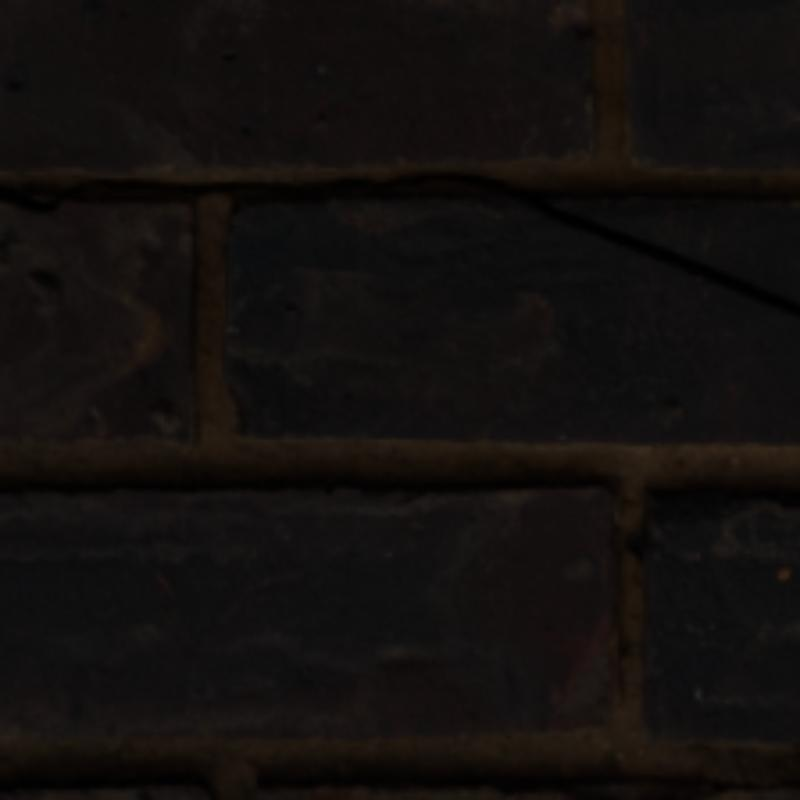pothole: (0, 171, 796, 314)
